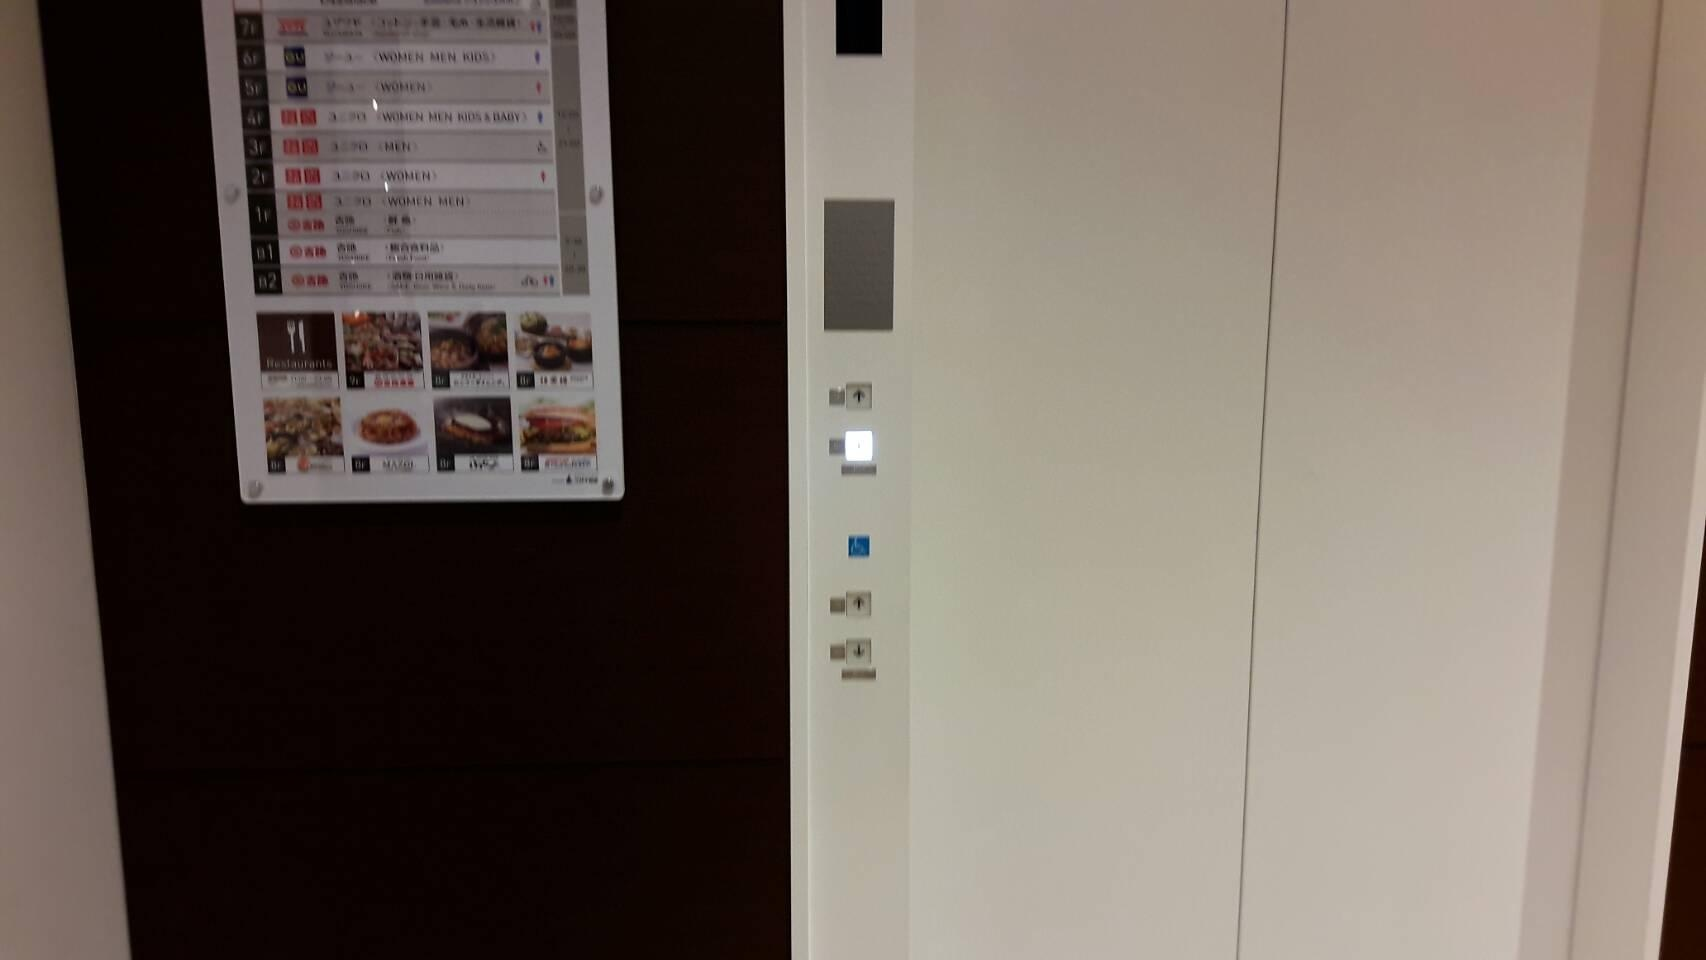CH: (848, 535, 871, 558)
blur: (845, 429, 876, 465)
down: (845, 639, 873, 666)
up: (845, 382, 872, 414), (845, 590, 874, 618)
